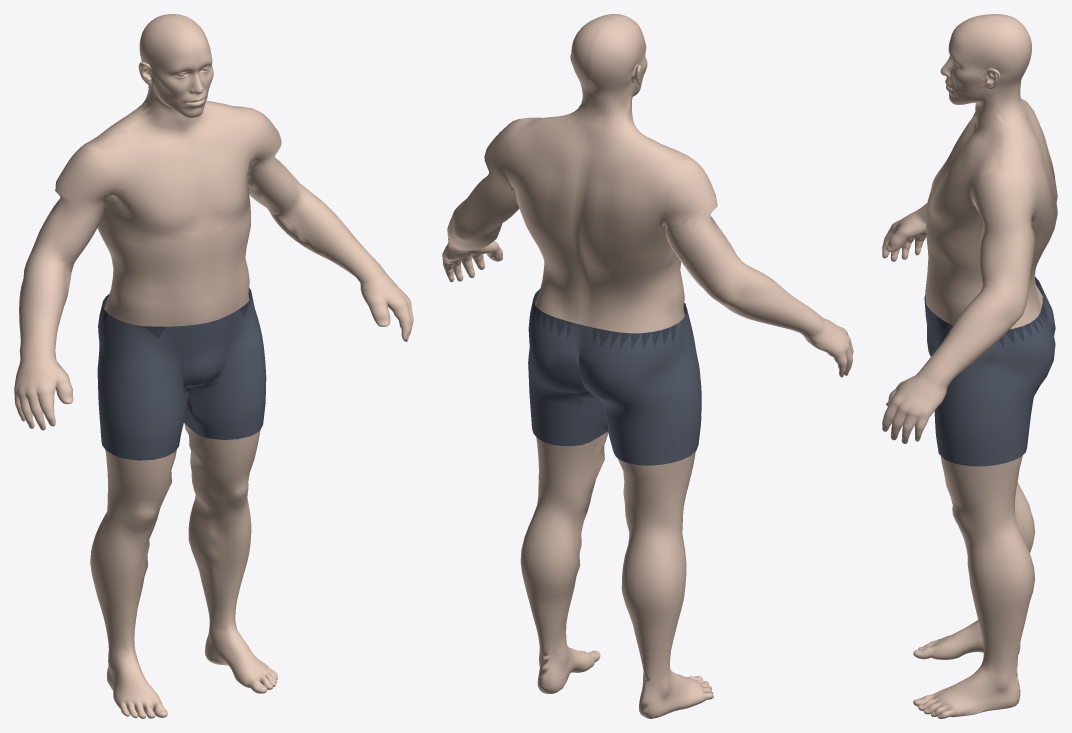
File: mannequin_male.glb
The picture shows the model from 3 angles, left to right: view 1: azimuth 30°, elevation 25°; view 2: azimuth 150°, elevation 25°; view 3: azimuth 270°, elevation 25°; orthographic projection. The views are drawn at different scales.
Visible parts, largest first — view 1: mannequin_male; view 2: mannequin_male; view 3: mannequin_male.
Boxes of the visible parts, left/top/right/bottom form: mannequin_male: left=14, top=14, right=413, bottom=718; mannequin_male: left=442, top=14, right=853, bottom=718; mannequin_male: left=882, top=14, right=1057, bottom=718.
Bounding box in the file's own units: 0.1494 × 0.2414 × 0.0577.
